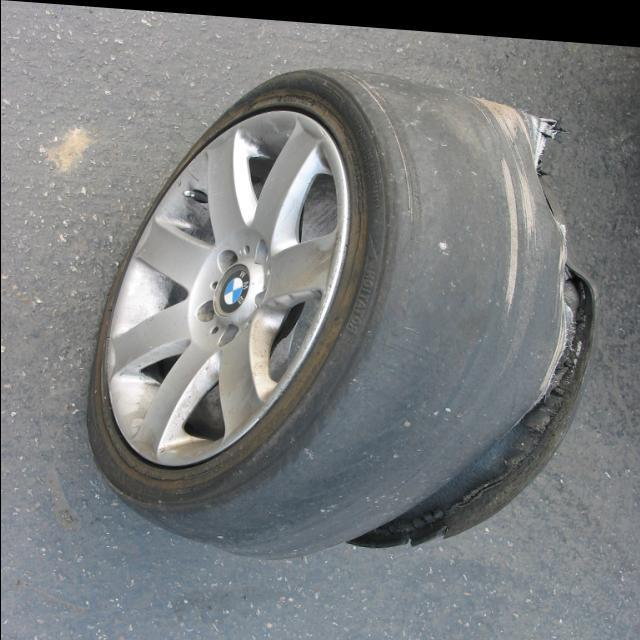Flat spots: (394, 112, 528, 376), (288, 392, 490, 504)
